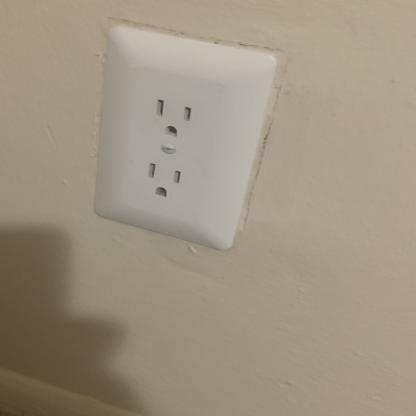OUTLET: (93, 23, 264, 252)
